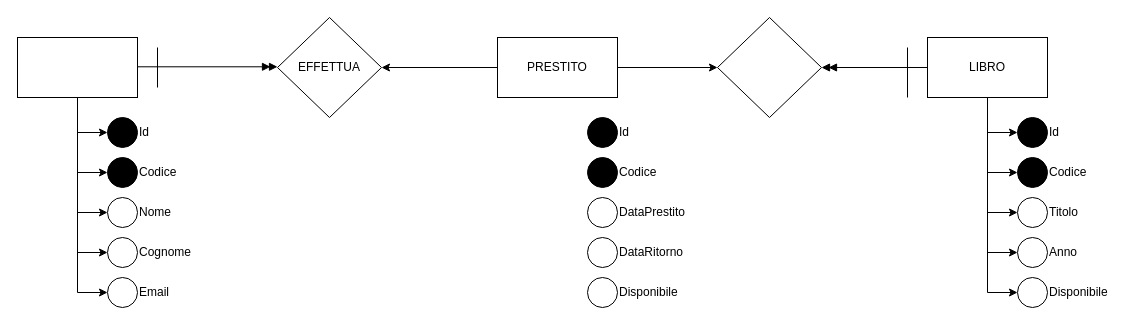
This 1126x325 diagram has some shape labels left out. Here are the shapes that lost their labels. From the top down, the centre of each, then its label:
At point 77,67: "UTENTE".
At point 769,67: "COINVOLGE".
